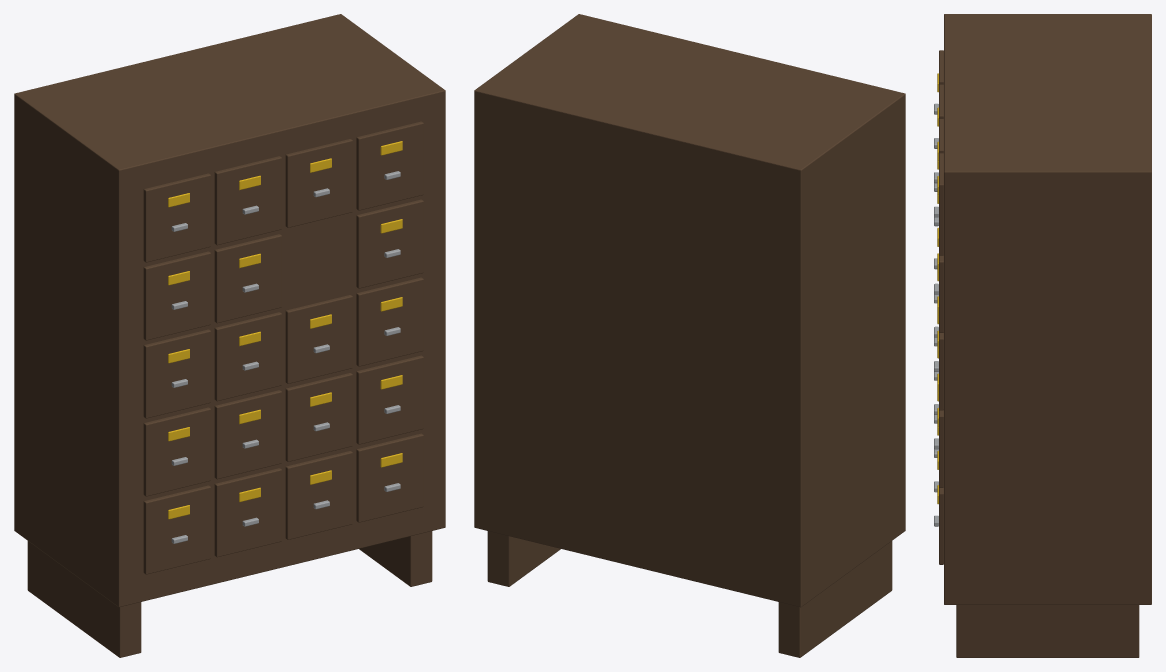
File: PROP_Cabinet_Card_Index.glb
3 renders of one model, left to right at view 1: azimuth 30°, elevation 25°; view 2: azimuth 150°, elevation 25°; view 3: azimuth 270°, elevation 25°, orthographic.
Parts seen in each view (by area): view 1: PROP_Cabinet_Card_Index_Mesh; view 2: PROP_Cabinet_Card_Index_Mesh; view 3: PROP_Cabinet_Card_Index_Mesh.
Part boxes in pixels (bbox=[...]): PROP_Cabinet_Card_Index_Mesh: bbox=[14, 14, 445, 657]; PROP_Cabinet_Card_Index_Mesh: bbox=[474, 14, 905, 657]; PROP_Cabinet_Card_Index_Mesh: bbox=[934, 14, 1151, 657].
Size of what is drawn, in the model's own units: 0.9 by 1.3 by 0.524.
